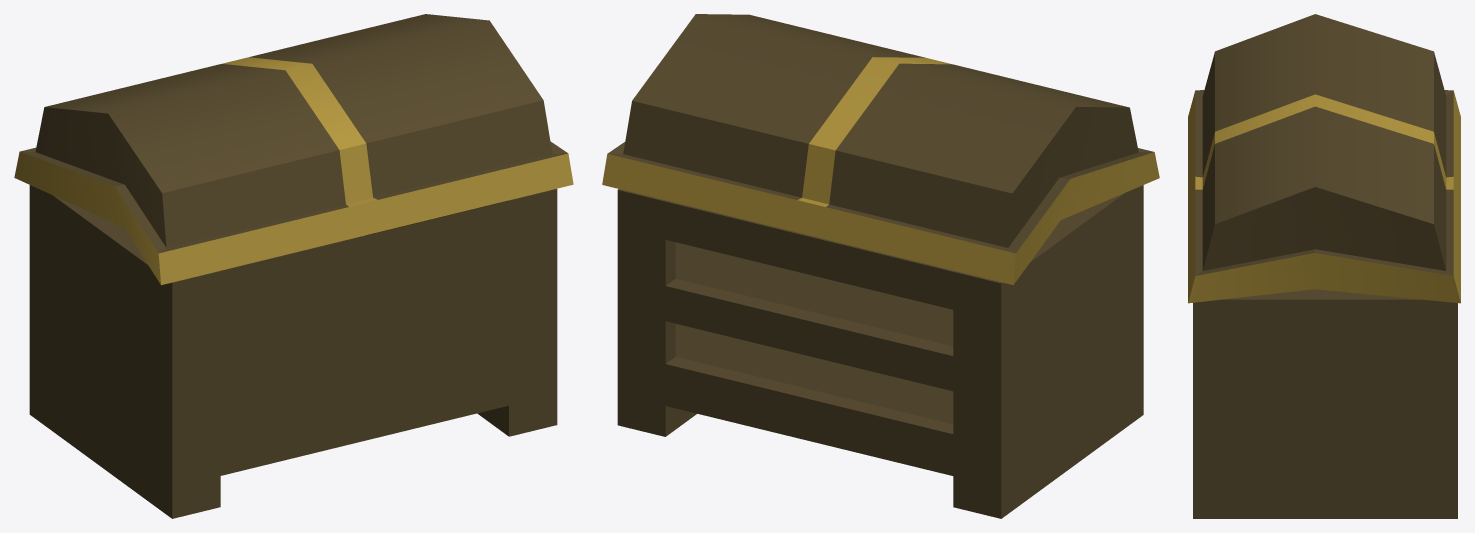
The model's file is chest.fbx.
The picture shows the model from 3 angles, left to right: view 1: azimuth 30°, elevation 25°; view 2: azimuth 150°, elevation 25°; view 3: azimuth 270°, elevation 25°; orthographic projection. The views are drawn at different scales.
Parts seen in each view (by area): view 1: chestbottom1, chestlid1; view 2: chestbottom1, chestlid1; view 3: chestlid1, chestbottom1.
Boxes of the visible parts, x1=… form: chestbottom1: x1=29, y1=185, x2=557, y2=518; chestlid1: x1=14, y1=14, x2=573, y2=285; chestbottom1: x1=617, y1=185, x2=1143, y2=518; chestlid1: x1=602, y1=14, x2=1159, y2=285; chestlid1: x1=1188, y1=14, x2=1460, y2=303; chestbottom1: x1=1193, y1=289, x2=1457, y2=518.
Size of the model in its own units: 51.28 by 42.38 by 31.61.
